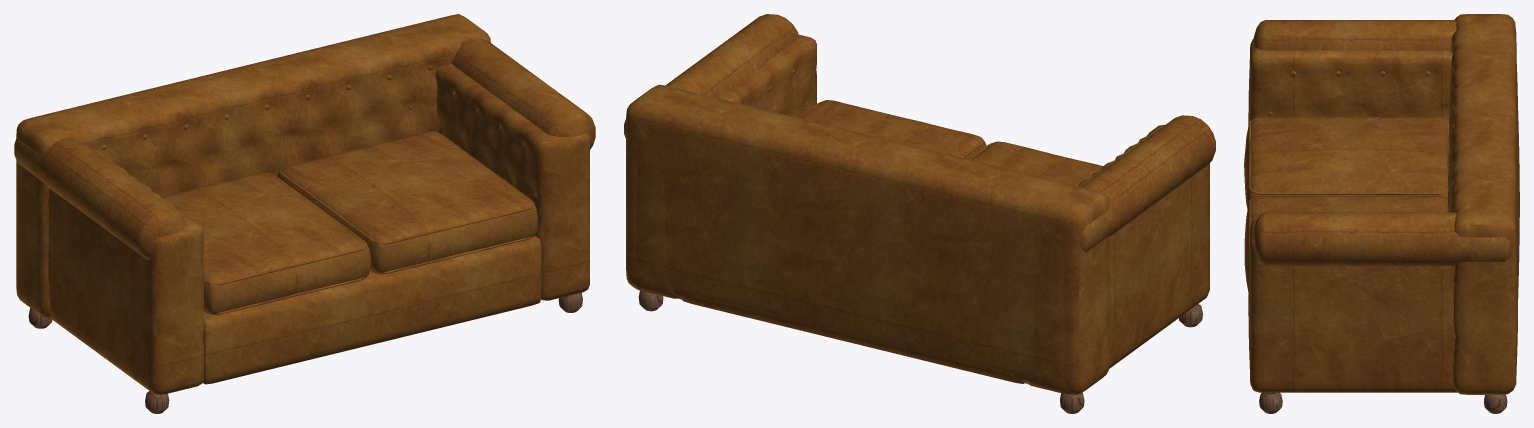
The model's file is sofa_capitone_2p.glb.
3 views of the same model, side by side, from view 1: azimuth 30°, elevation 25°; view 2: azimuth 150°, elevation 25°; view 3: azimuth 270°, elevation 25° (orthographic). The views are drawn at different scales.
Parts seen in each view (by area): view 1: sofa_capitone_2p; view 2: sofa_capitone_2p; view 3: sofa_capitone_2p.
Part boxes in pixels (x1,y1,x2,y2): sofa_capitone_2p: (14,14,595,413); sofa_capitone_2p: (624,14,1215,413); sofa_capitone_2p: (1244,14,1519,413).
Size of the model in its own units: 1.72 by 0.7481 by 0.9326.
2 materials, 2 textured.
